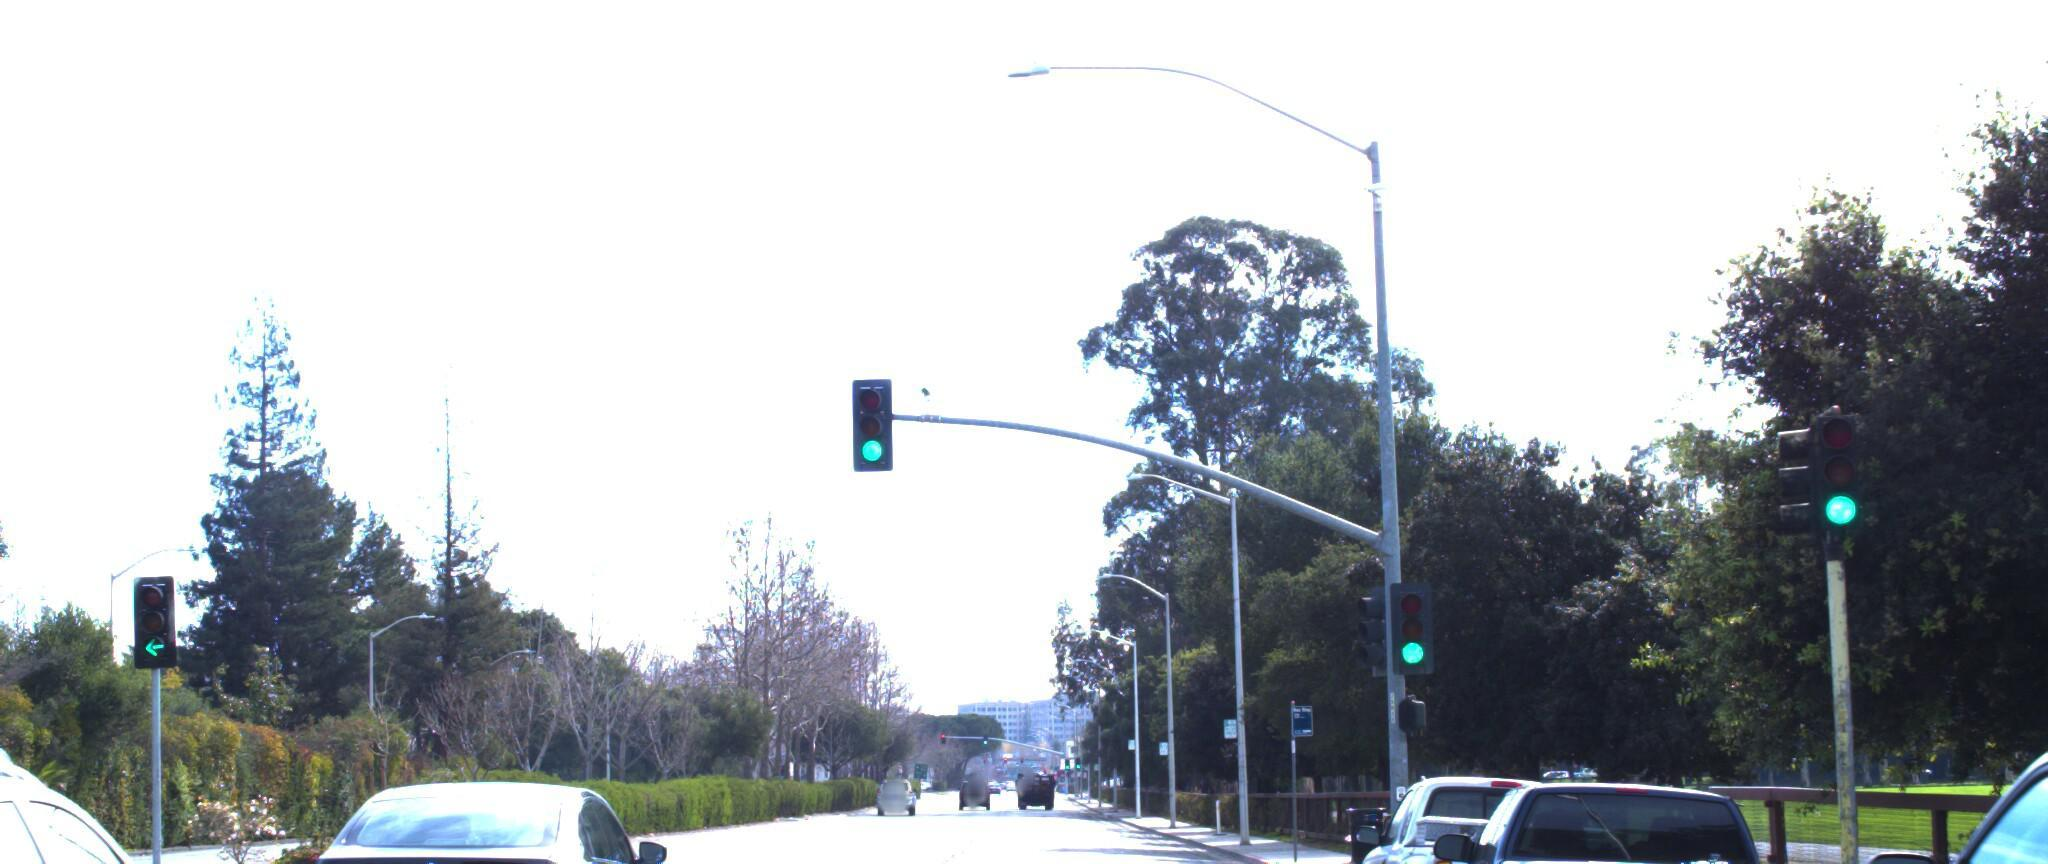car: (1728, 576, 2048, 864), (1425, 754, 1848, 864), (276, 760, 686, 864), (0, 730, 308, 864), (1334, 753, 1680, 864), (0, 730, 107, 864)
